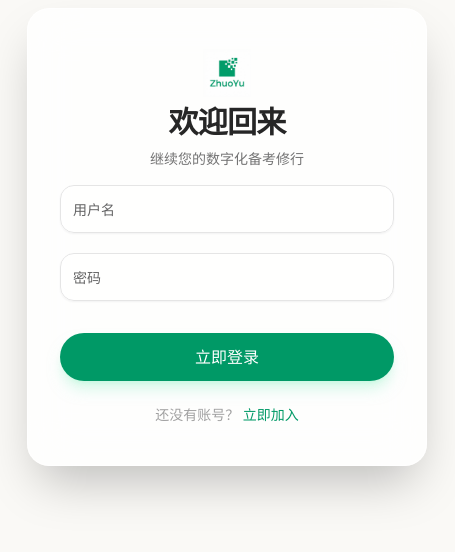
Scenario: LoginPage 集成测试 › 网络请求失败时，应显示"无法连接到服务器"提示
Step 1. Type "admin" into the field with placeholder "用户名" → (227,209), box [60,185,394,233]
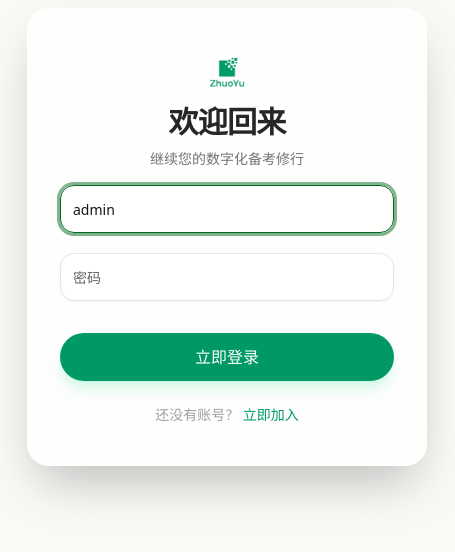
Step 2. Type "any-password" into the password field with placeholder "密码" → (227,277), box [60,253,394,301]
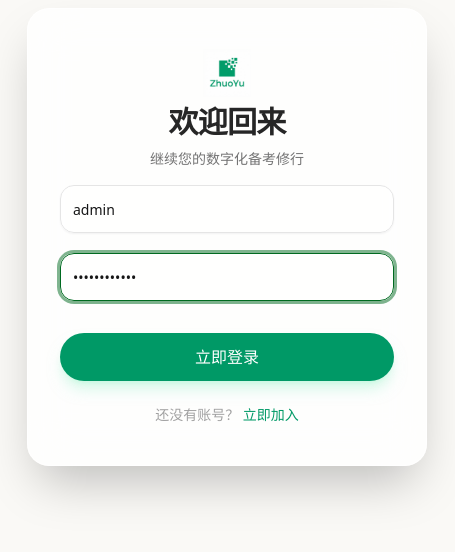
Step 3. Click the button "立即登录" → (227,357), box [60,333,394,381]
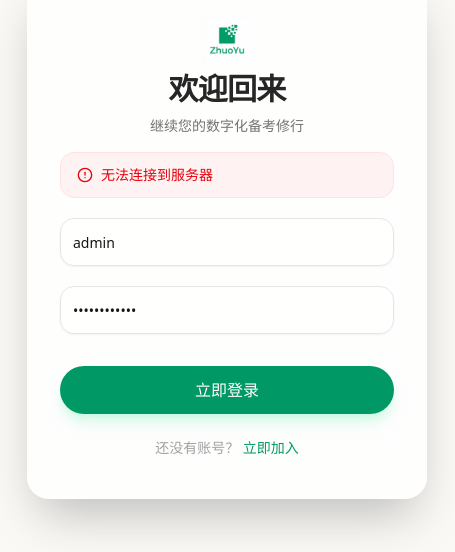
Expected: the text "无法连接到服务器" is shown, [60,152,394,198]
